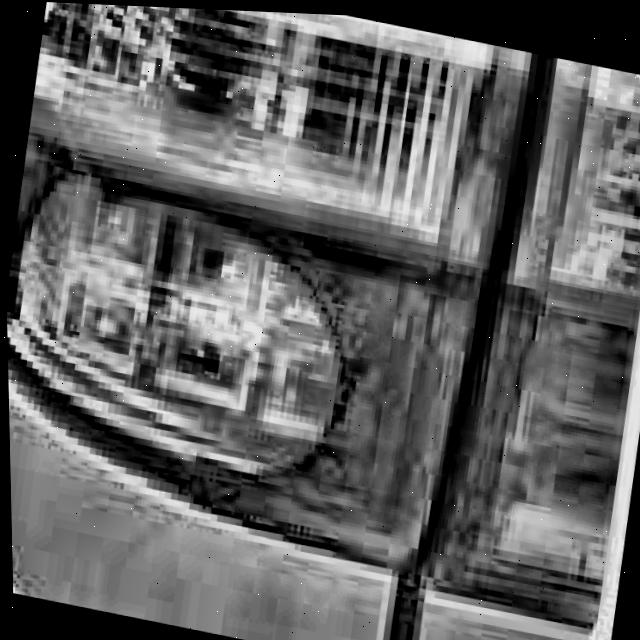tail_lamp: (4, 176, 354, 508)
